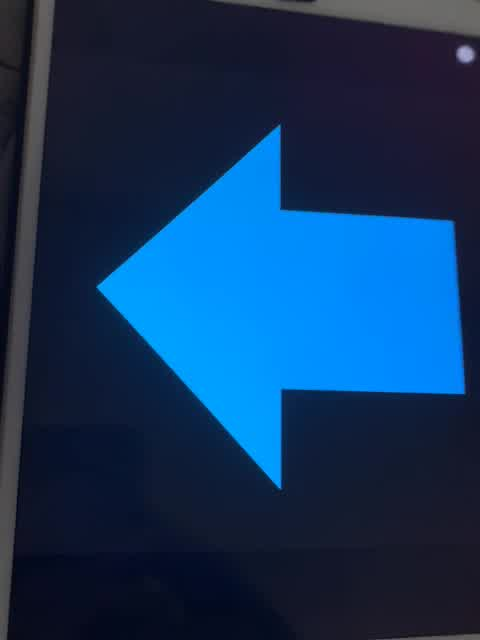left: (82, 117, 470, 497)
